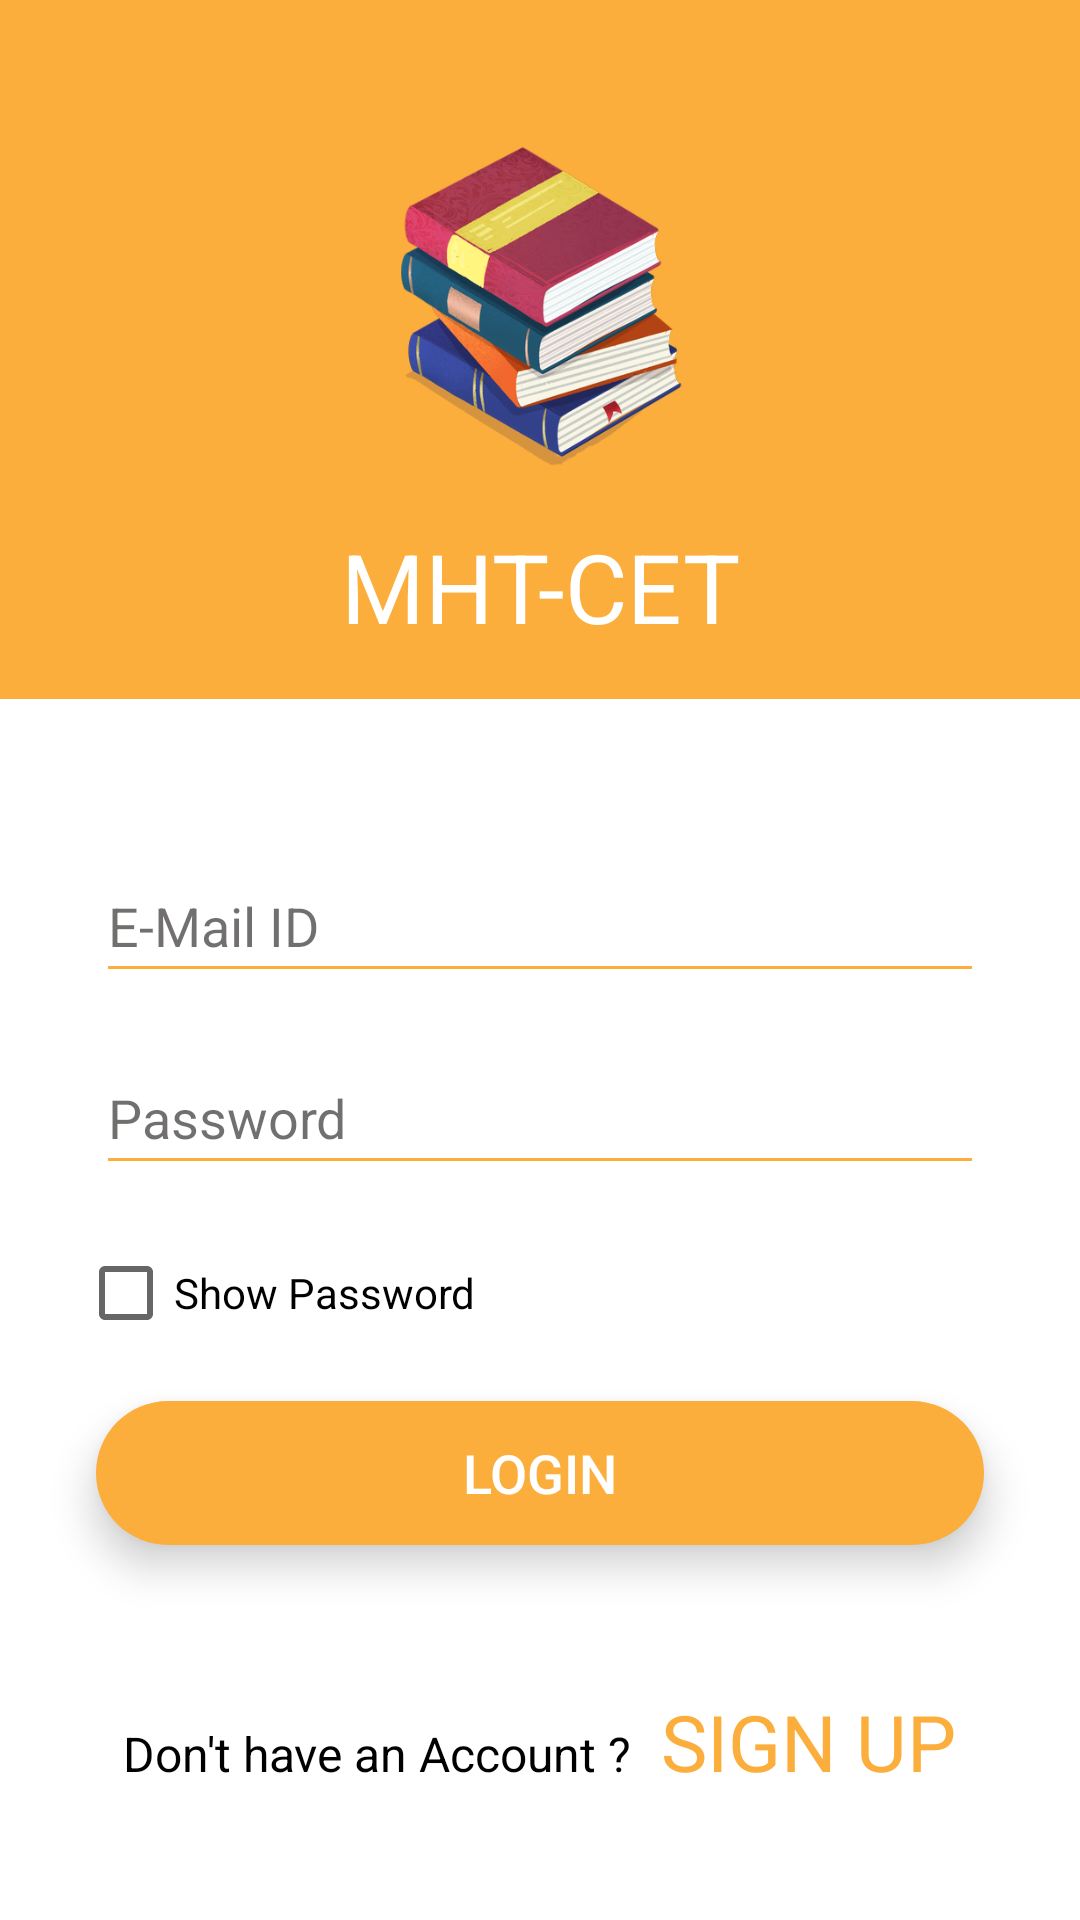

Icons on this 1080px x 1920px Android screen, each with the point to tap as (x=x, y=y):
stack of books: (x=541, y=306)
